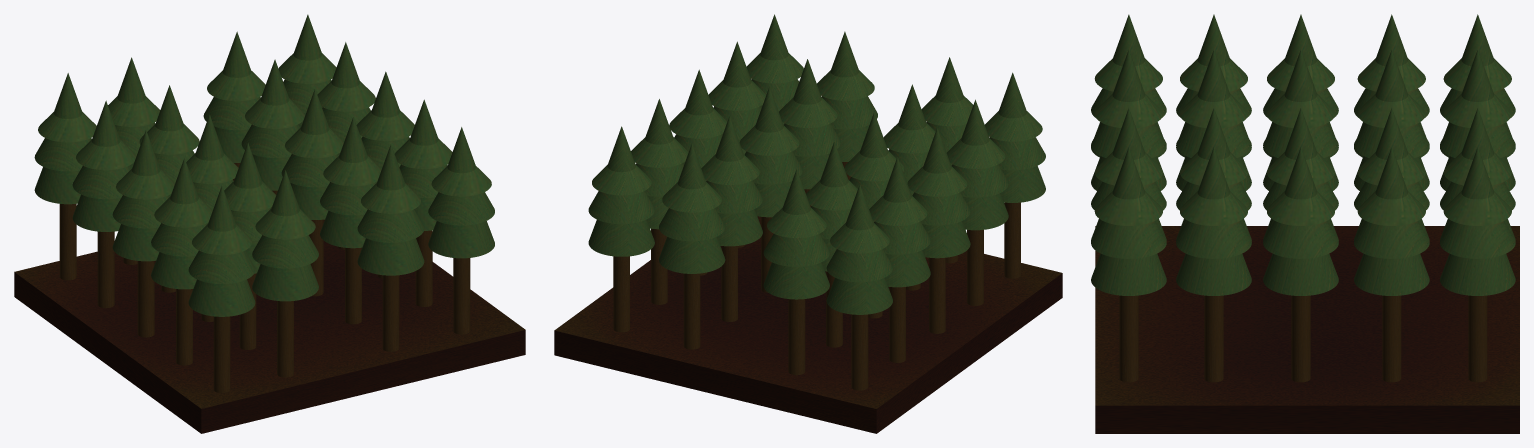
Rendered from Forest.fbx.
The picture shows the model from 3 angles, left to right: view 1: azimuth 30°, elevation 25°; view 2: azimuth 150°, elevation 25°; view 3: azimuth 270°, elevation 25°; orthographic projection. The views are drawn at different scales.
Parts seen in each view (by area): view 1: Forest; view 2: Forest; view 3: Forest.
Boxes of the visible parts, x1,y1,x2,y2 form: Forest: (14, 14, 525, 433); Forest: (554, 14, 1062, 433); Forest: (1091, 14, 1519, 433).
Bounding box in the file's own units: 160 × 108 × 162.
